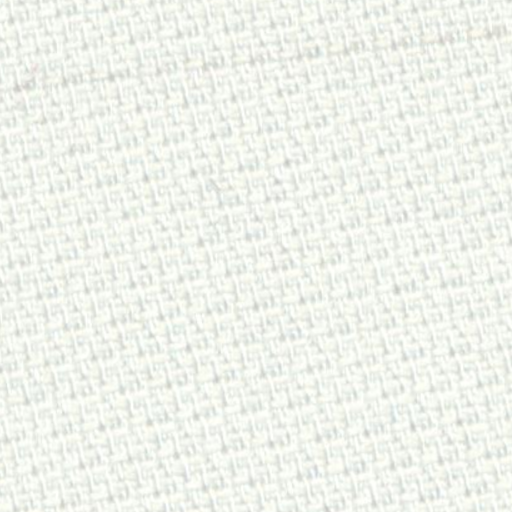WuZi: (98, 20, 504, 92)
